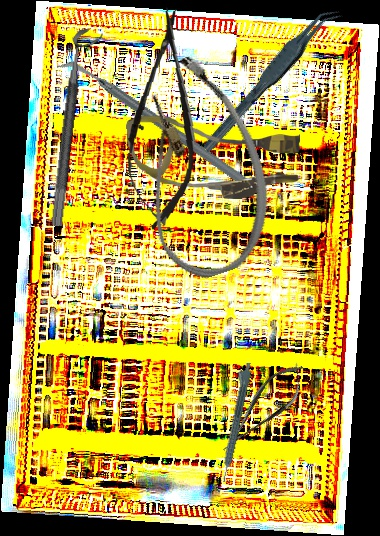Cannula: (106, 45, 291, 289), (126, 113, 301, 201)
Chopper: (56, 11, 252, 237)
Fixation Ring: (49, 27, 104, 229)
Handpiece: (214, 360, 254, 484)
Micro Scissor: (120, 3, 206, 233), (210, 354, 316, 463)
Tissue Forceps: (186, 2, 355, 155)
